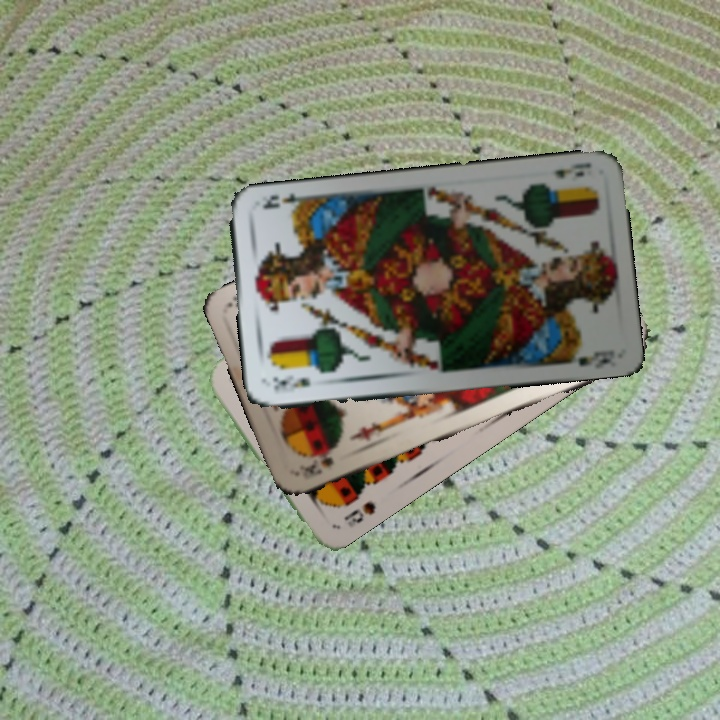EK: (549, 159, 594, 181), (269, 373, 313, 394)
S8: (339, 497, 379, 526)
SK: (300, 449, 337, 479)
